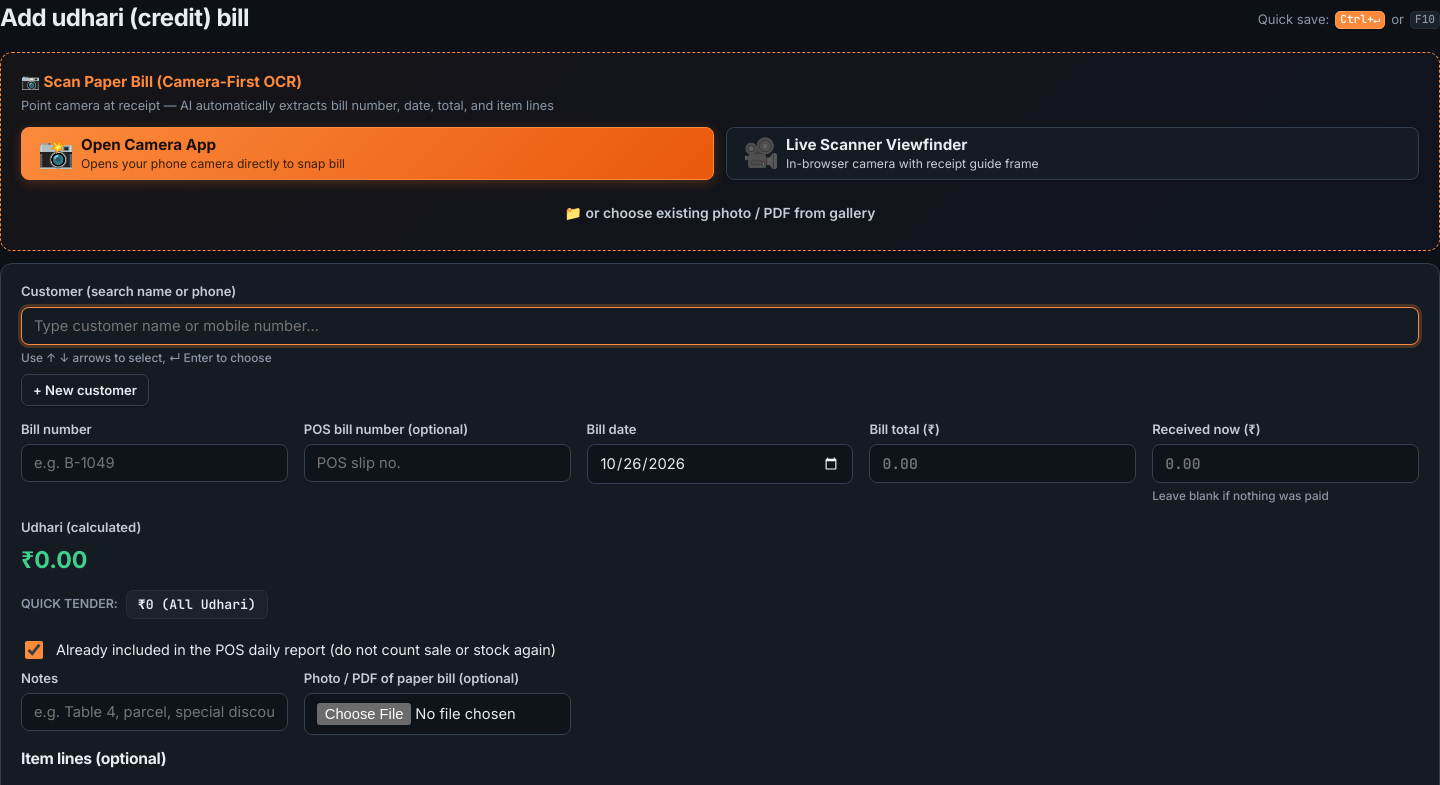
Scenario: AddBill form › calculates the udhari balance instead of letting it be typed
Type "1200" into the field labelled "Bill total (₹)" at (1003, 464), box [869,444,1136,483]
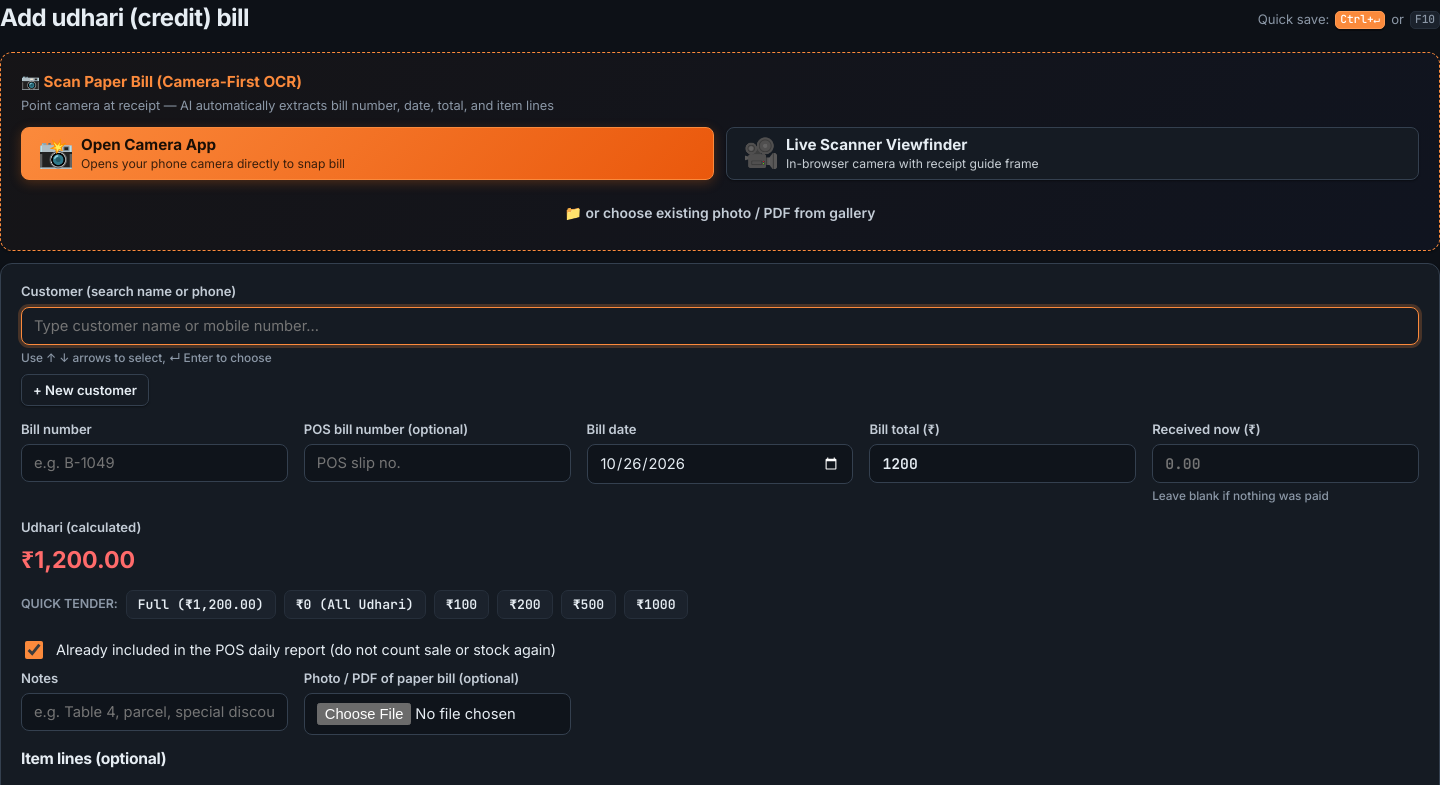
Type "500" into the field labelled "Received now (₹) Leave blank if nothing was paid" at (1286, 464), box [1152,444,1419,483]
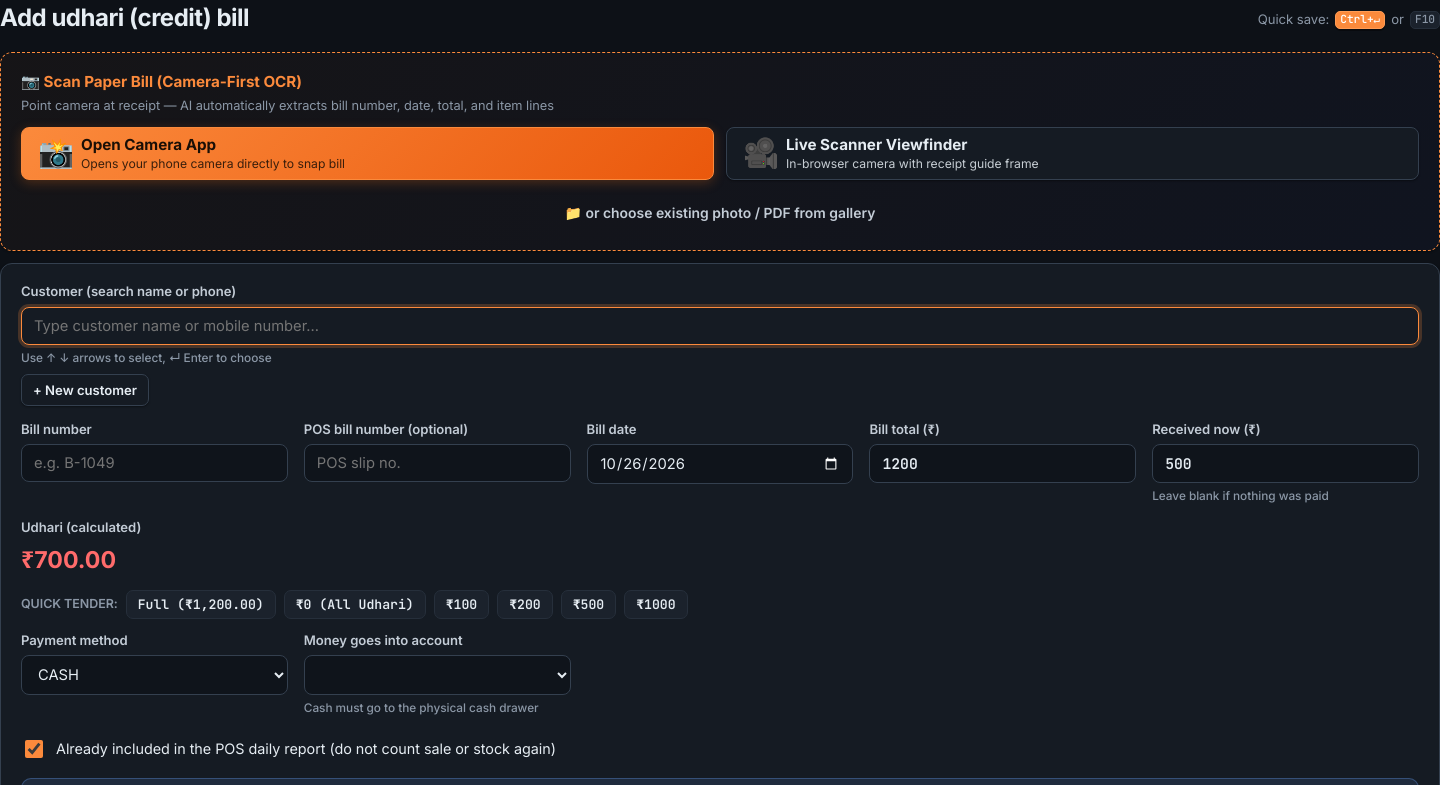
Expected: the text "₹700.00" is shown, [21,546,116,574]
